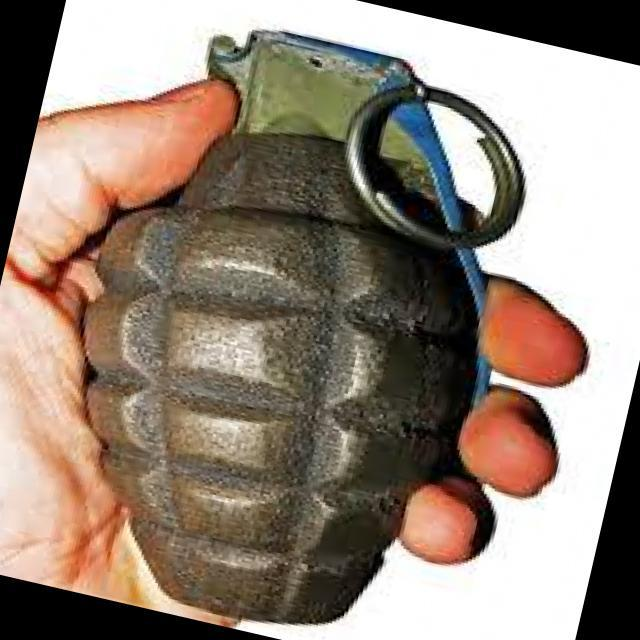grenade: (6, 0, 576, 640)
